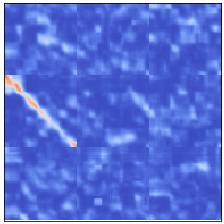action_path: (0, 75, 75, 149)
